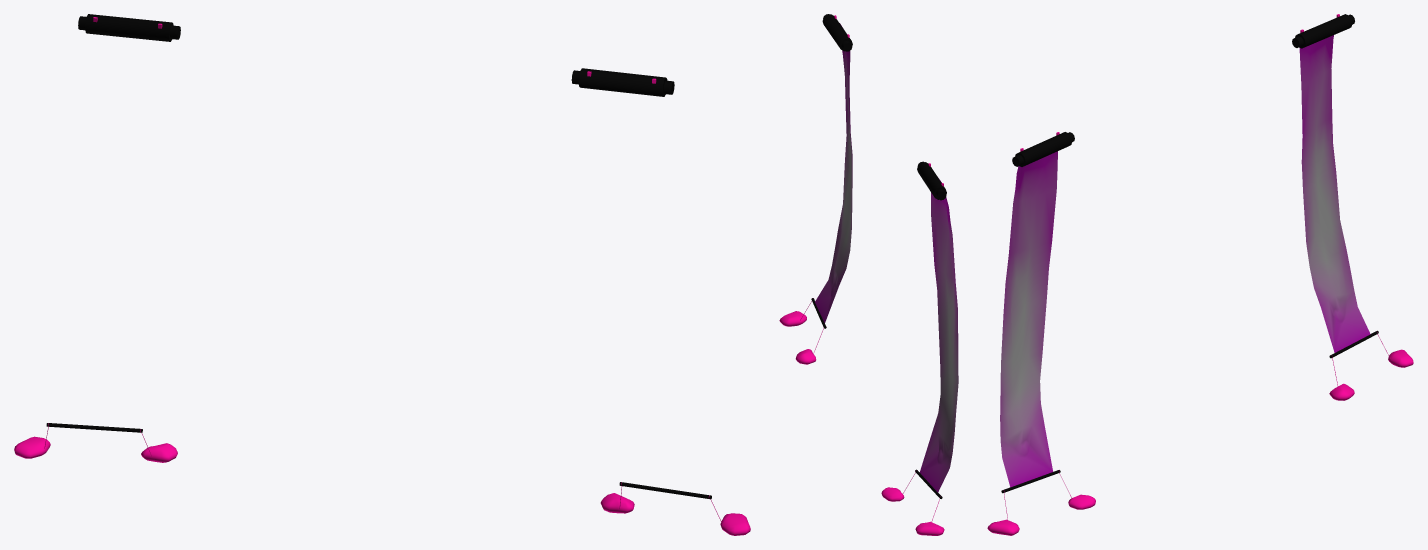
File: SM_ENV_LKNVLD_ShopFlag_A.gltf
The picture shows the model from 3 angles, left to right: view 1: azimuth 30°, elevation 25°; view 2: azimuth 150°, elevation 25°; view 3: azimuth 270°, elevation 25°; orthographic projection. The views are drawn at different scales.
Parts seen in each view (by area): view 1: SM_ENV_LKNVLD_ShopFlag_A; view 2: SM_ENV_LKNVLD_ShopFlag_A; view 3: SM_ENV_LKNVLD_ShopFlag_A.
Part boxes in pixels (<box>): SM_ENV_LKNVLD_ShopFlag_A: <box>14,14,750,535</box>; SM_ENV_LKNVLD_ShopFlag_A: <box>779,14,958,535</box>; SM_ENV_LKNVLD_ShopFlag_A: <box>987,14,1413,535</box>.
Bounding box in the file's own units: 18.24 × 16.74 × 18.04.
